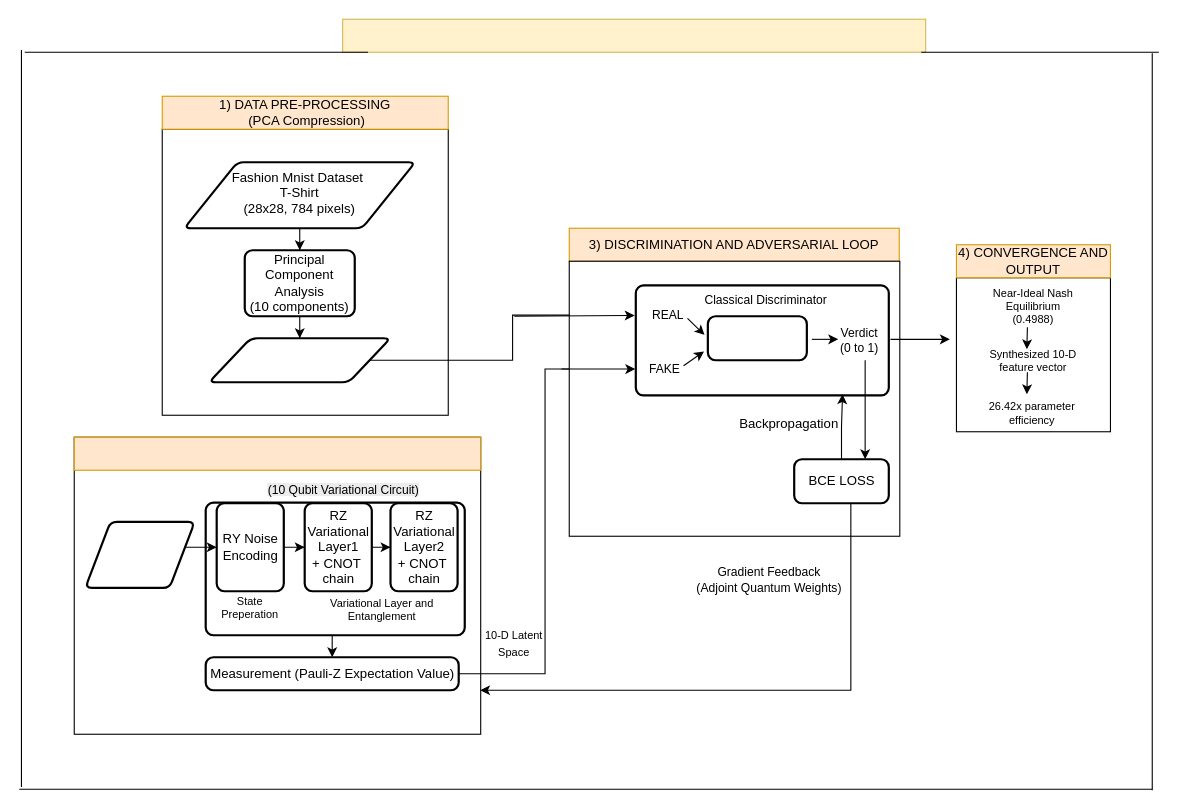
Image size: 1179x811. Some labels were removed from this diagram. Here are the shapes that lost their labels. From the top down, the box of each, then its label:
(342, 18, 926, 52): HYBRID QUANTUM CLASSICAL GAN WORKFLOW
(706, 315, 807, 361): SIGMOID ACTIVATION
(207, 337, 391, 383): 10-D latent Spac e (Real Data Vector)
(73, 436, 481, 470): 2) QUANTUM GENERATOR (VQG)
(84, 520, 195, 588): Random Noise (Normal/Uniform)
